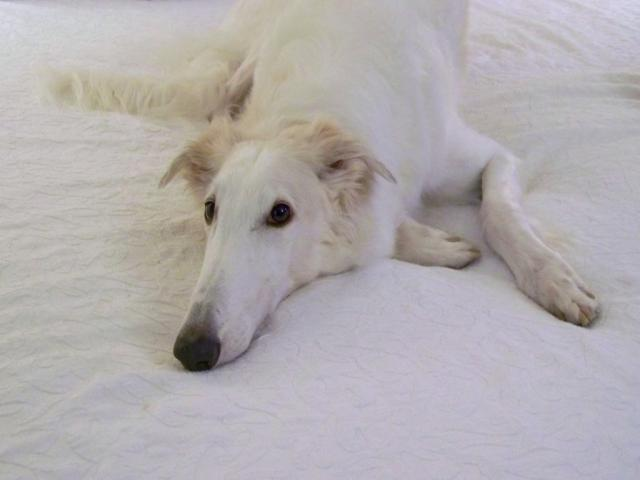Dog: (29, 0, 603, 375)
